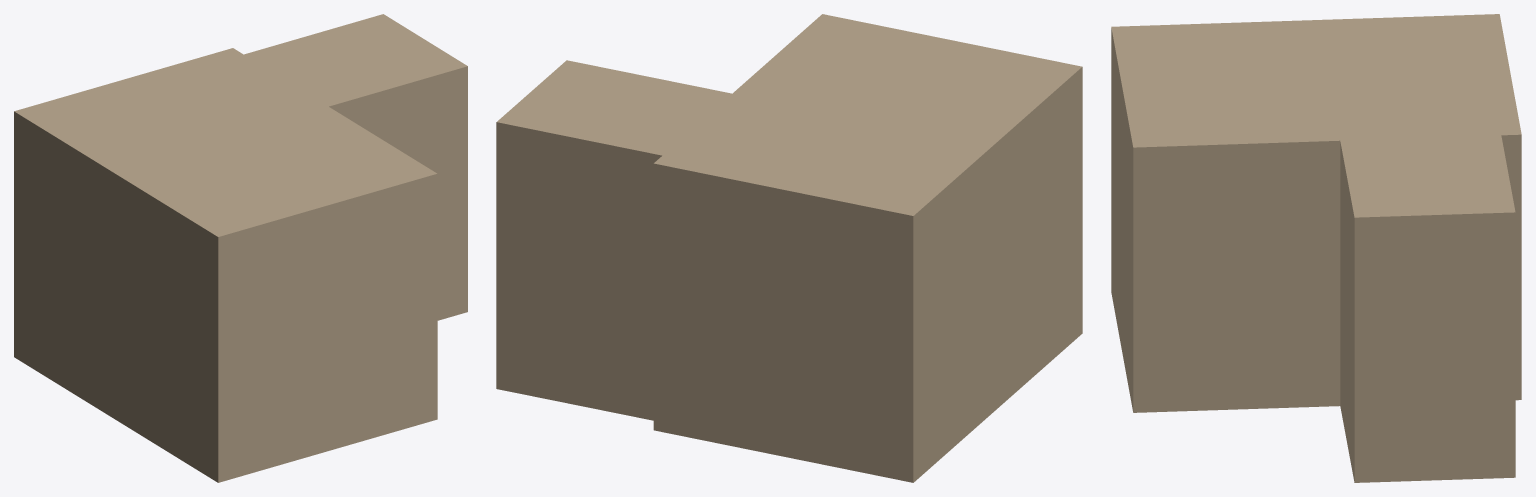
The model's file is bld_101572449.dae.
The picture shows the model from 3 angles, left to right: view 1: azimuth 30°, elevation 25°; view 2: azimuth 150°, elevation 25°; view 3: azimuth 270°, elevation 25°; orthographic projection. The views are drawn at different scales.
Visible parts, largest first — view 1: bld_101572449; view 2: bld_101572449; view 3: bld_101572449.
Boxes of the visible parts, x1,y1,x2,y2 form: bld_101572449: (14,14,467,482); bld_101572449: (496,14,1082,482); bld_101572449: (1111,14,1521,482).
Size of the model in its own units: 13.17 by 11.21 by 8.
